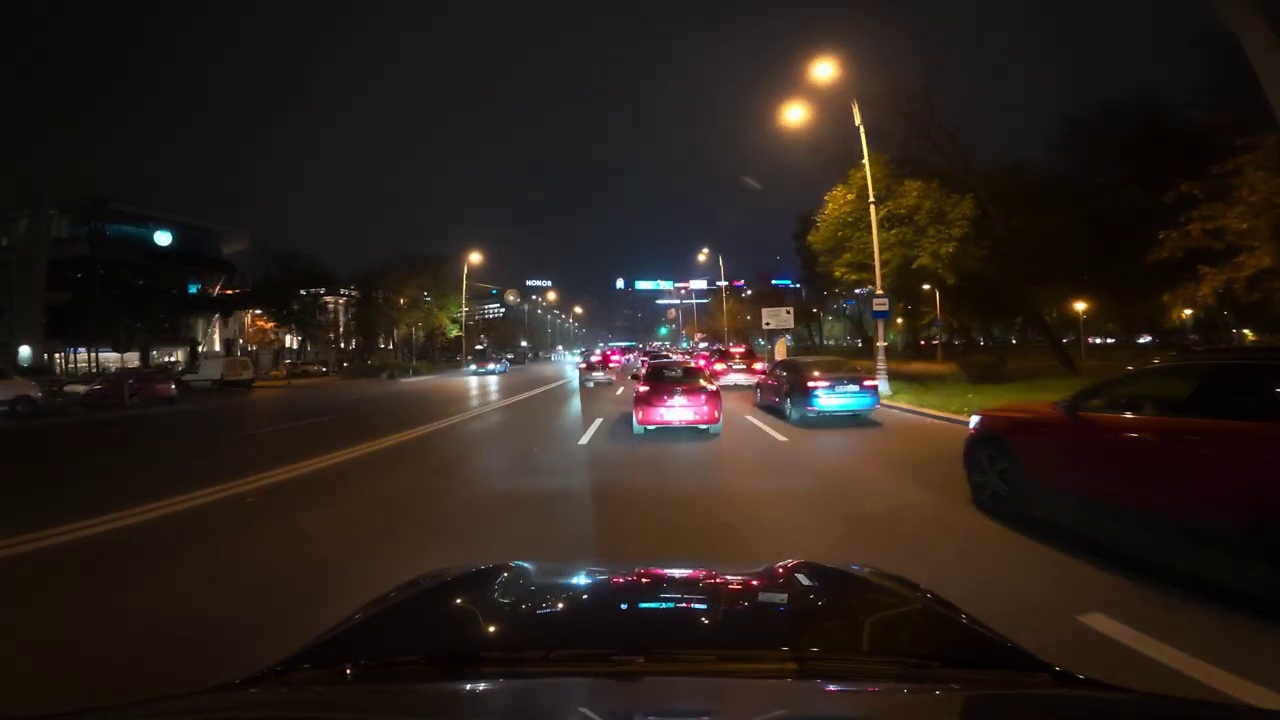acesa: (805, 55, 841, 87), (779, 100, 812, 130), (463, 247, 486, 270), (1068, 297, 1092, 318), (693, 247, 713, 267)
